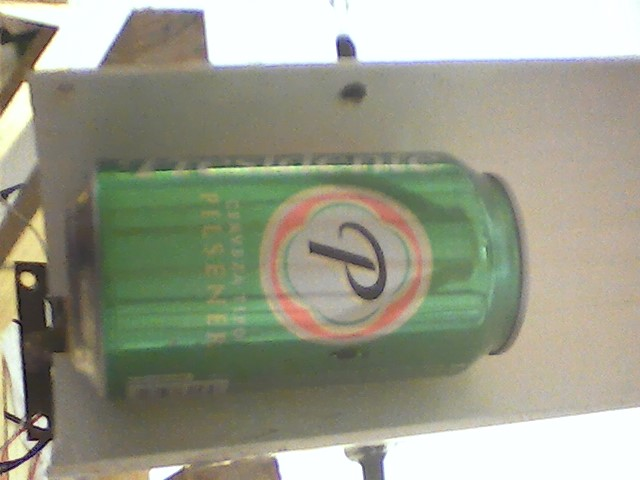lata: (62, 141, 538, 413)
